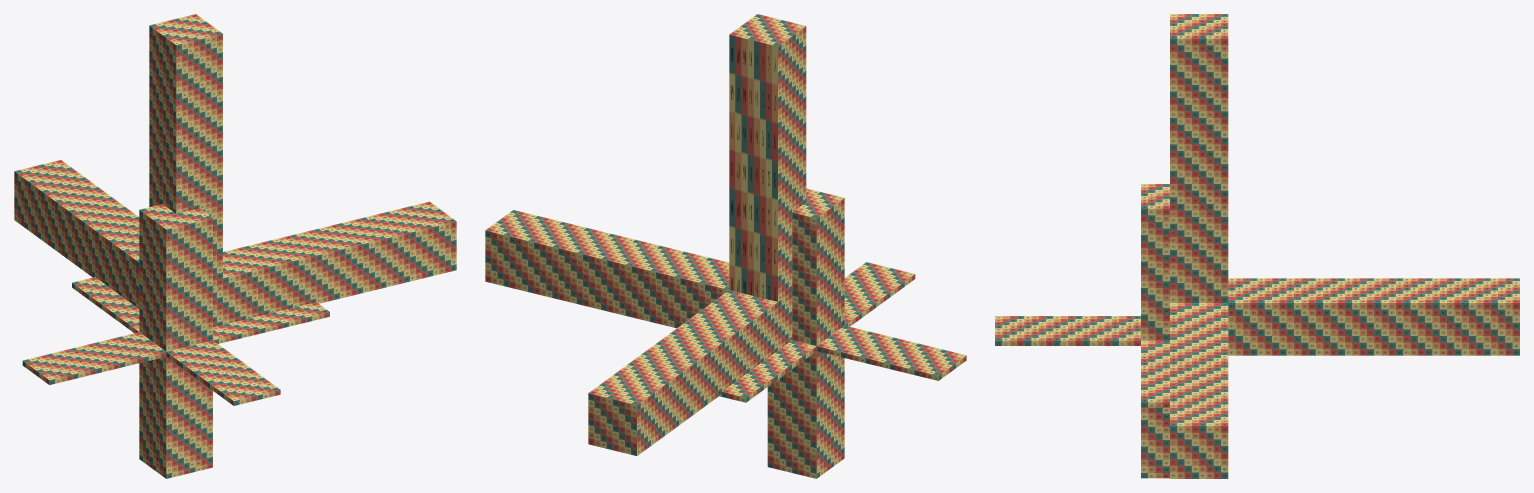
Rendered from morphLibrary.glb.
3 renders of one model, left to right at view 1: azimuth 30°, elevation 25°; view 2: azimuth 150°, elevation 25°; view 3: azimuth 270°, elevation 25°, orthographic. The views are drawn at different scales.
Visible parts, largest first — view 1: morphLibrary_cuboid_maxHeight, morphLibrary_cube_big_maxWidth, morphLibrary_cube_big_maxHeight, morphLibrary_cube_big_maxDepth, morphLibrary_cuboid_maxWidth, morphLibrary_cuboid_maxDepth, morphLibrary_cube_big_base; view 2: morphLibrary_cube_big_maxHeight, morphLibrary_cube_big_maxWidth, morphLibrary_cube_big_maxDepth, morphLibrary_cuboid_maxHeight, morphLibrary_cuboid_maxDepth, morphLibrary_cuboid_maxWidth, morphLibrary_cube_big_base; view 3: morphLibrary_cube_big_maxDepth, morphLibrary_cube_big_maxHeight, morphLibrary_cube_big_maxWidth, morphLibrary_cuboid_maxHeight, morphLibrary_cuboid_maxDepth, morphLibrary_cuboid_maxWidth.
Boxes of the visible parts, left/top/right/bottom form: morphLibrary_cuboid_maxHeight: left=139, top=204, right=212, bottom=478; morphLibrary_cube_big_maxWidth: left=223, top=201, right=456, bottom=324; morphLibrary_cube_big_maxHeight: left=149, top=14, right=222, bottom=326; morphLibrary_cube_big_maxDepth: left=14, top=160, right=139, bottom=308; morphLibrary_cuboid_maxWidth: left=22, top=302, right=329, bottom=384; morphLibrary_cuboid_maxDepth: left=72, top=277, right=280, bottom=405; morphLibrary_cube_big_base: left=213, top=278, right=222, bottom=326; morphLibrary_cube_big_maxHeight: left=729, top=14, right=806, bottom=345; morphLibrary_cube_big_maxWidth: left=485, top=210, right=729, bottom=328; morphLibrary_cube_big_maxDepth: left=588, top=290, right=777, bottom=455; morphLibrary_cuboid_maxHeight: left=767, top=188, right=844, bottom=478; morphLibrary_cuboid_maxDepth: left=719, top=262, right=915, bottom=402; morphLibrary_cuboid_maxWidth: left=816, top=325, right=966, bottom=380; morphLibrary_cube_big_base: left=778, top=292, right=792, bottom=349; morphLibrary_cube_big_maxDepth: left=1228, top=278, right=1519, bottom=355; morphLibrary_cube_big_maxHeight: left=1170, top=14, right=1228, bottom=302; morphLibrary_cube_big_maxWidth: left=1170, top=303, right=1228, bottom=478; morphLibrary_cuboid_maxHeight: left=1141, top=184, right=1169, bottom=478; morphLibrary_cuboid_maxDepth: left=995, top=316, right=1140, bottom=345; morphLibrary_cuboid_maxWidth: left=1141, top=340, right=1169, bottom=407.
Size of the model in its own units: 18 by 17.1 by 18.
4 materials, 4 textured.
